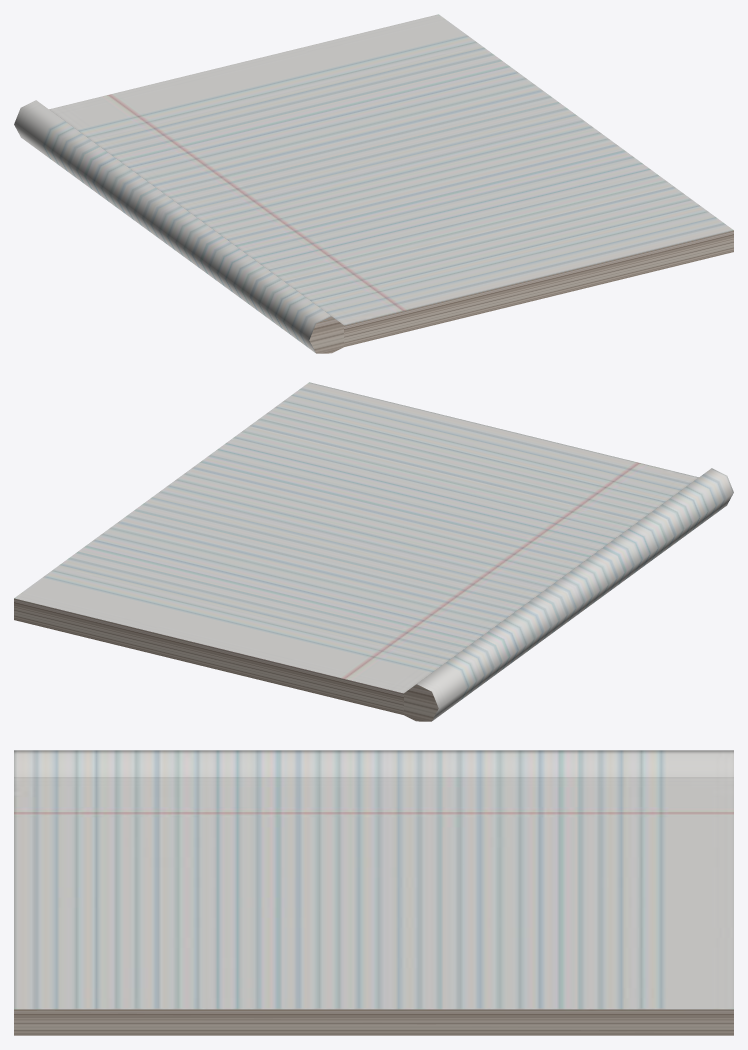
File: D_Book_003_b.fbx
3 renders of one model, top to bottom at view 1: azimuth 30°, elevation 25°; view 2: azimuth 150°, elevation 25°; view 3: azimuth 270°, elevation 25°, orthographic. The views are drawn at different scales.
Parts seen in each view (by area): view 1: D_Book_003_b; view 2: D_Book_003_b; view 3: D_Book_003_b.
Part boxes in pixels (x1=…): D_Book_003_b: x1=14, y1=14, x2=733, y2=353; D_Book_003_b: x1=14, y1=382, x2=733, y2=721; D_Book_003_b: x1=14, y1=750, x2=733, y2=1035.
Size of the model in its own units: 0.2459 by 0.0207 by 0.296.
